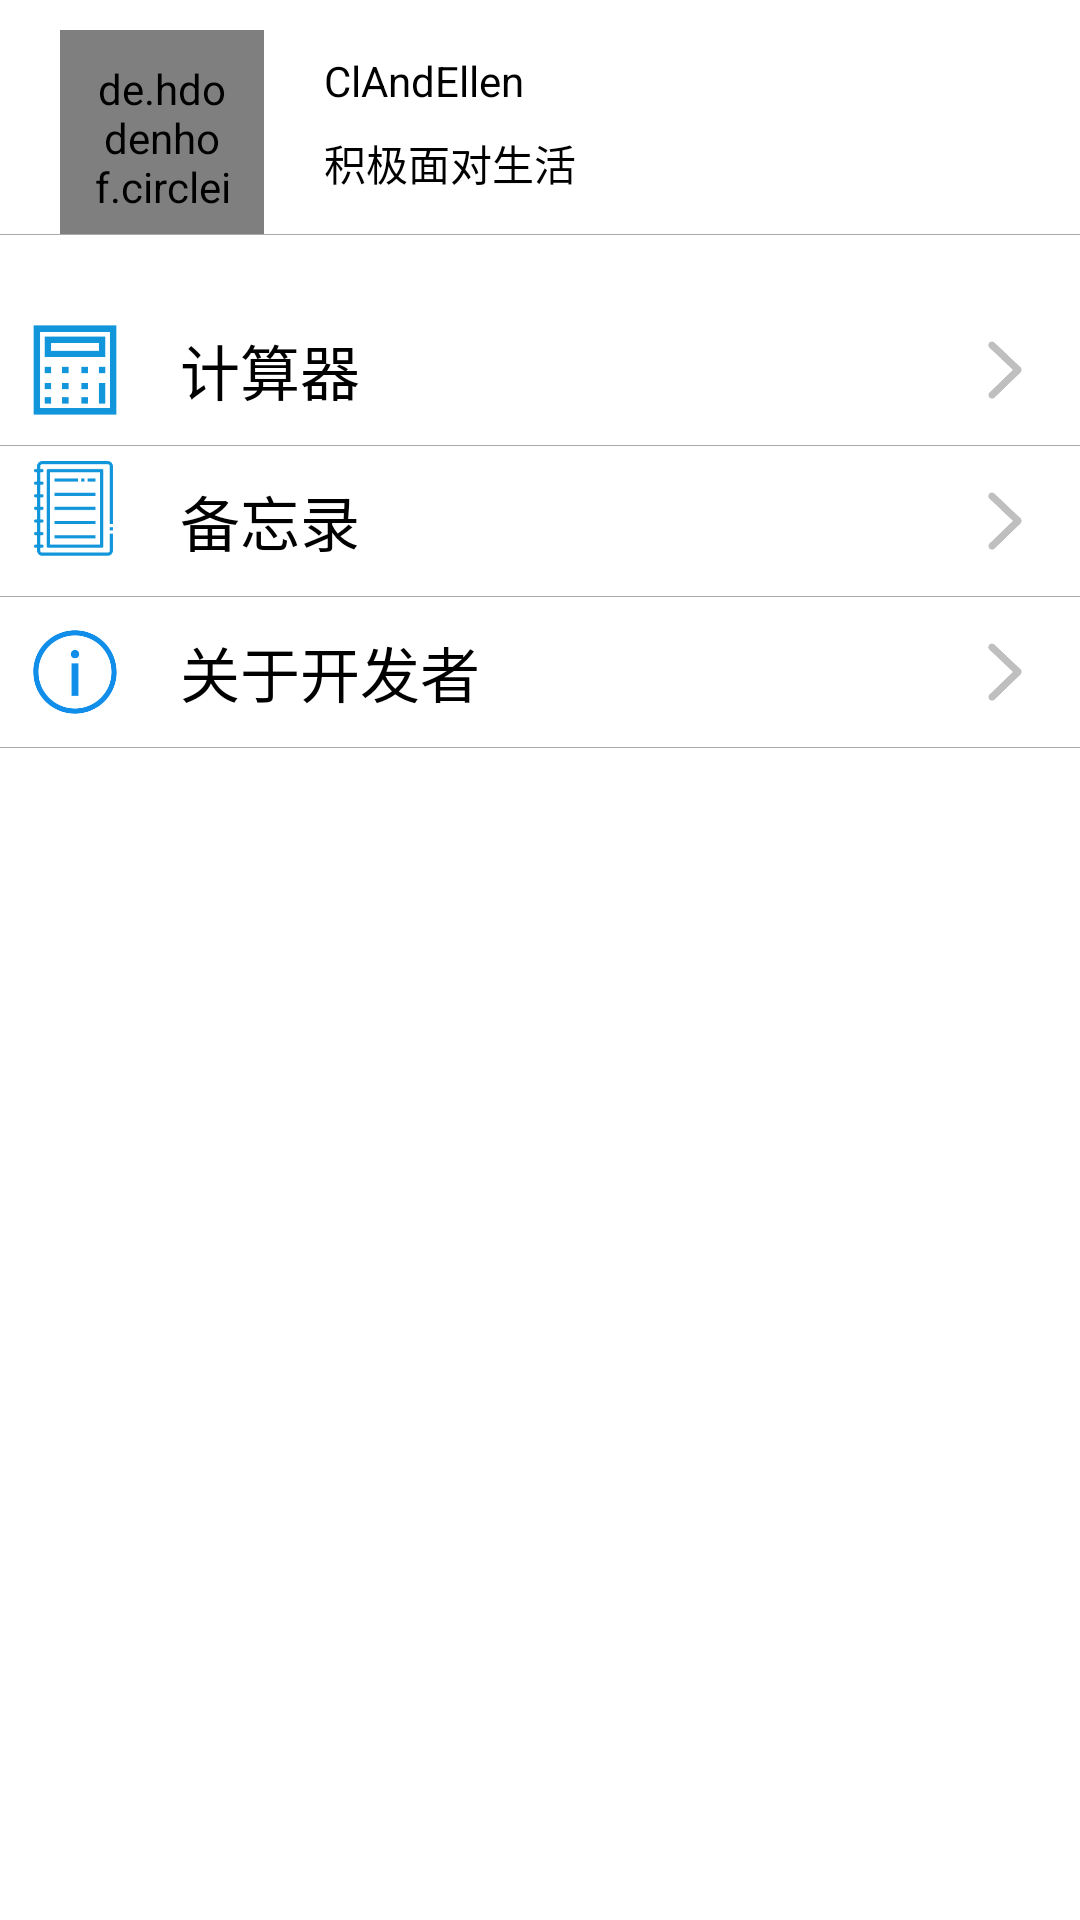

Icons on this 1080x1920 Android screen, each with the point to tap as (x,y):
yjt: (1005,370), (1005,521), (1005,672)
